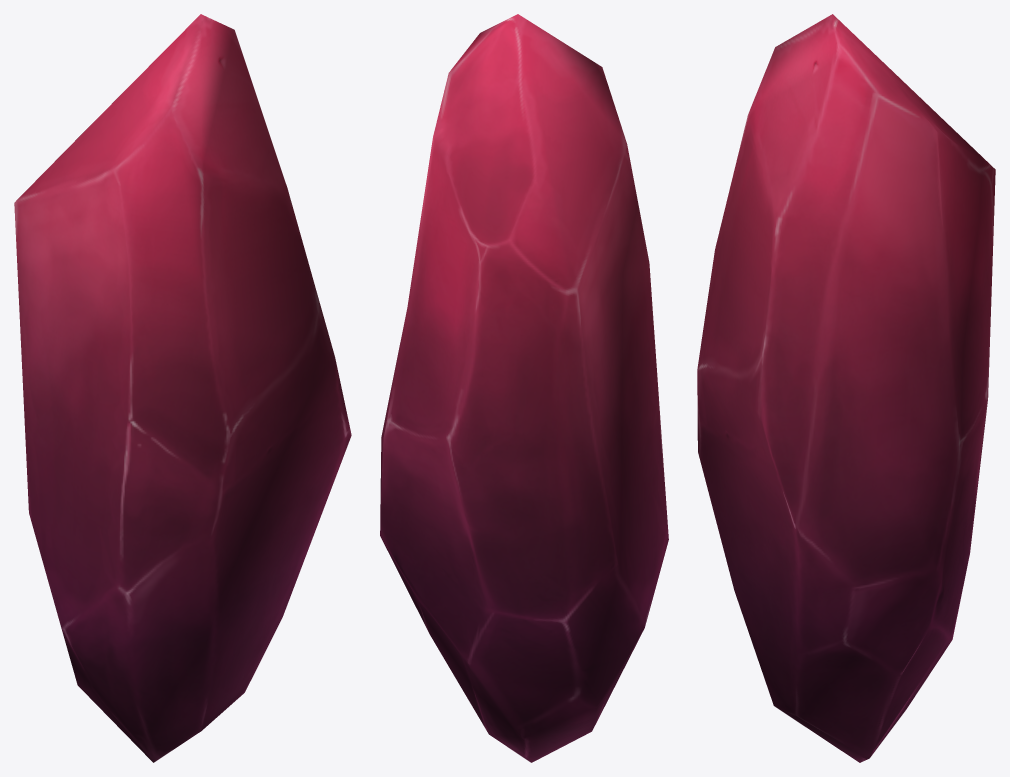
File: VEG0510009.fbx
The picture shows the model from 3 angles, left to right: view 1: azimuth 30°, elevation 25°; view 2: azimuth 150°, elevation 25°; view 3: azimuth 270°, elevation 25°; orthographic projection. The views are drawn at different scales.
Parts seen in each view (by area): view 1: smVEG0510009; view 2: smVEG0510009; view 3: smVEG0510009.
Part boxes in pixels (x1,y1,x2,y2): smVEG0510009: (14, 14, 351, 762); smVEG0510009: (380, 14, 668, 762); smVEG0510009: (697, 14, 995, 762).
Size of the model in its own units: 22.37 by 58.83 by 20.87.
Materials: 1 (1 with a texture image).
